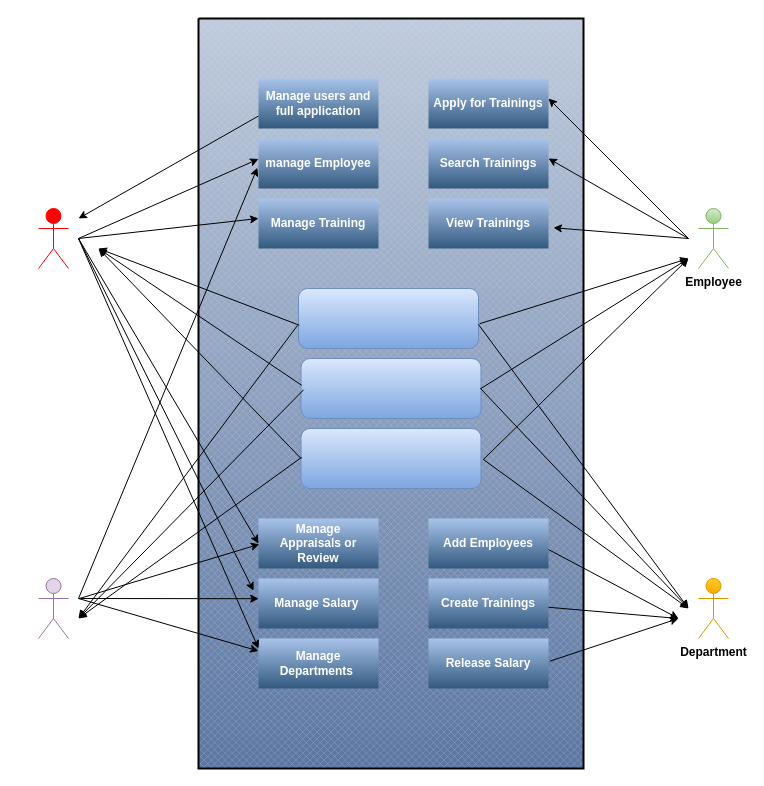
Some shapes in this 764 by 786 pixel diagram are drawn without their labels. The centre of each missing label's shape, as x and y in pixels:
"Account Password" goes at (390,458).
"ADMIN" goes at (53,238).
"Login / Logout or Sign In or Sign Up from system" goes at (388,318).
"Profile data with Updating option" goes at (390,388).
"System User" goes at (53,608).
